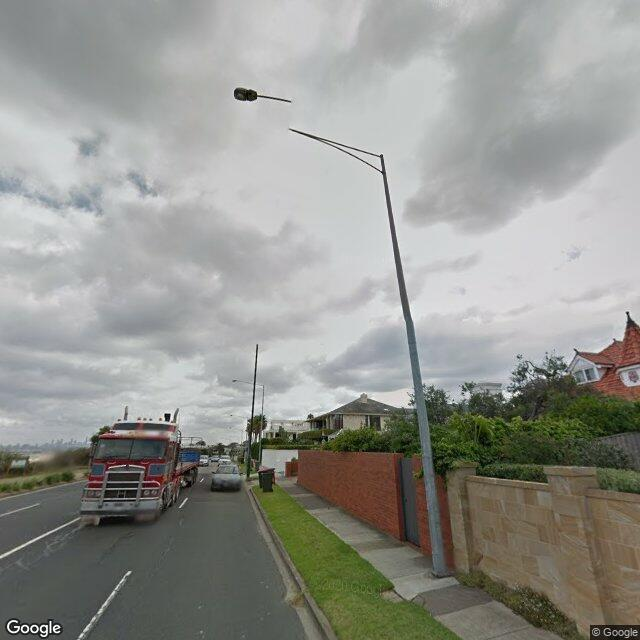steel-pole: (380, 154, 449, 576), (259, 385, 264, 463)
streetlight: (234, 88, 384, 174), (232, 380, 264, 386), (230, 415, 248, 418)
